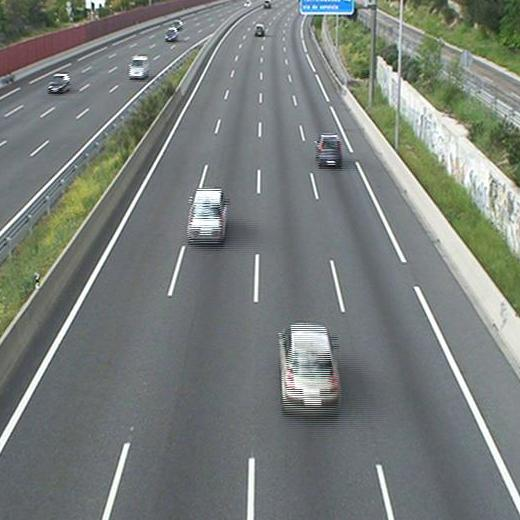car: (279, 325, 340, 408), (187, 190, 225, 240), (315, 135, 342, 166), (254, 24, 266, 37), (263, 1, 271, 8)
